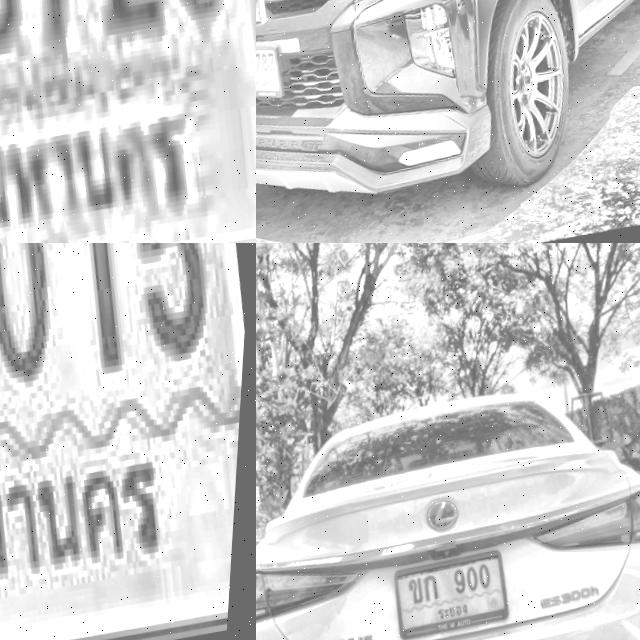license-plate: (0, 243, 256, 640), (0, 0, 256, 243), (396, 553, 518, 639), (256, 36, 292, 111)
